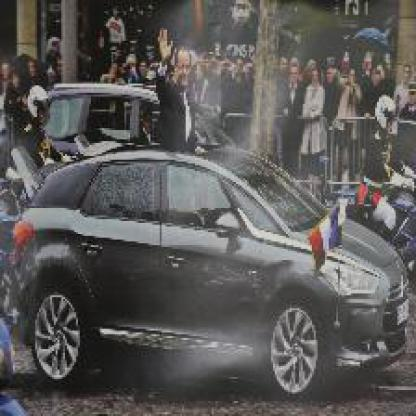not_emergency: (15, 121, 414, 396)
